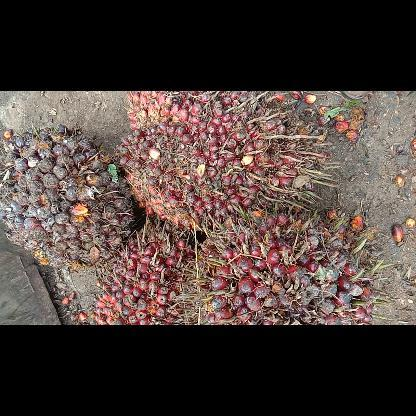Kurang masak: (0, 120, 138, 274)
TBS masak: (114, 92, 330, 235), (188, 212, 382, 324), (89, 232, 219, 324)
